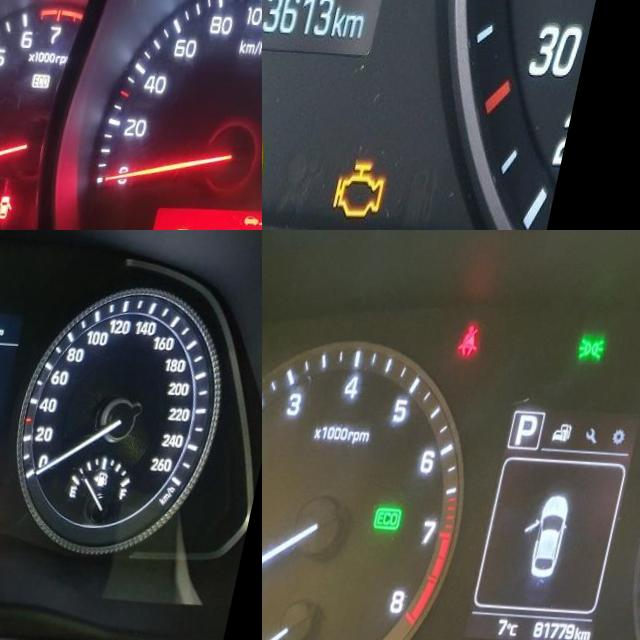SideLamp: (583, 330, 613, 357)
